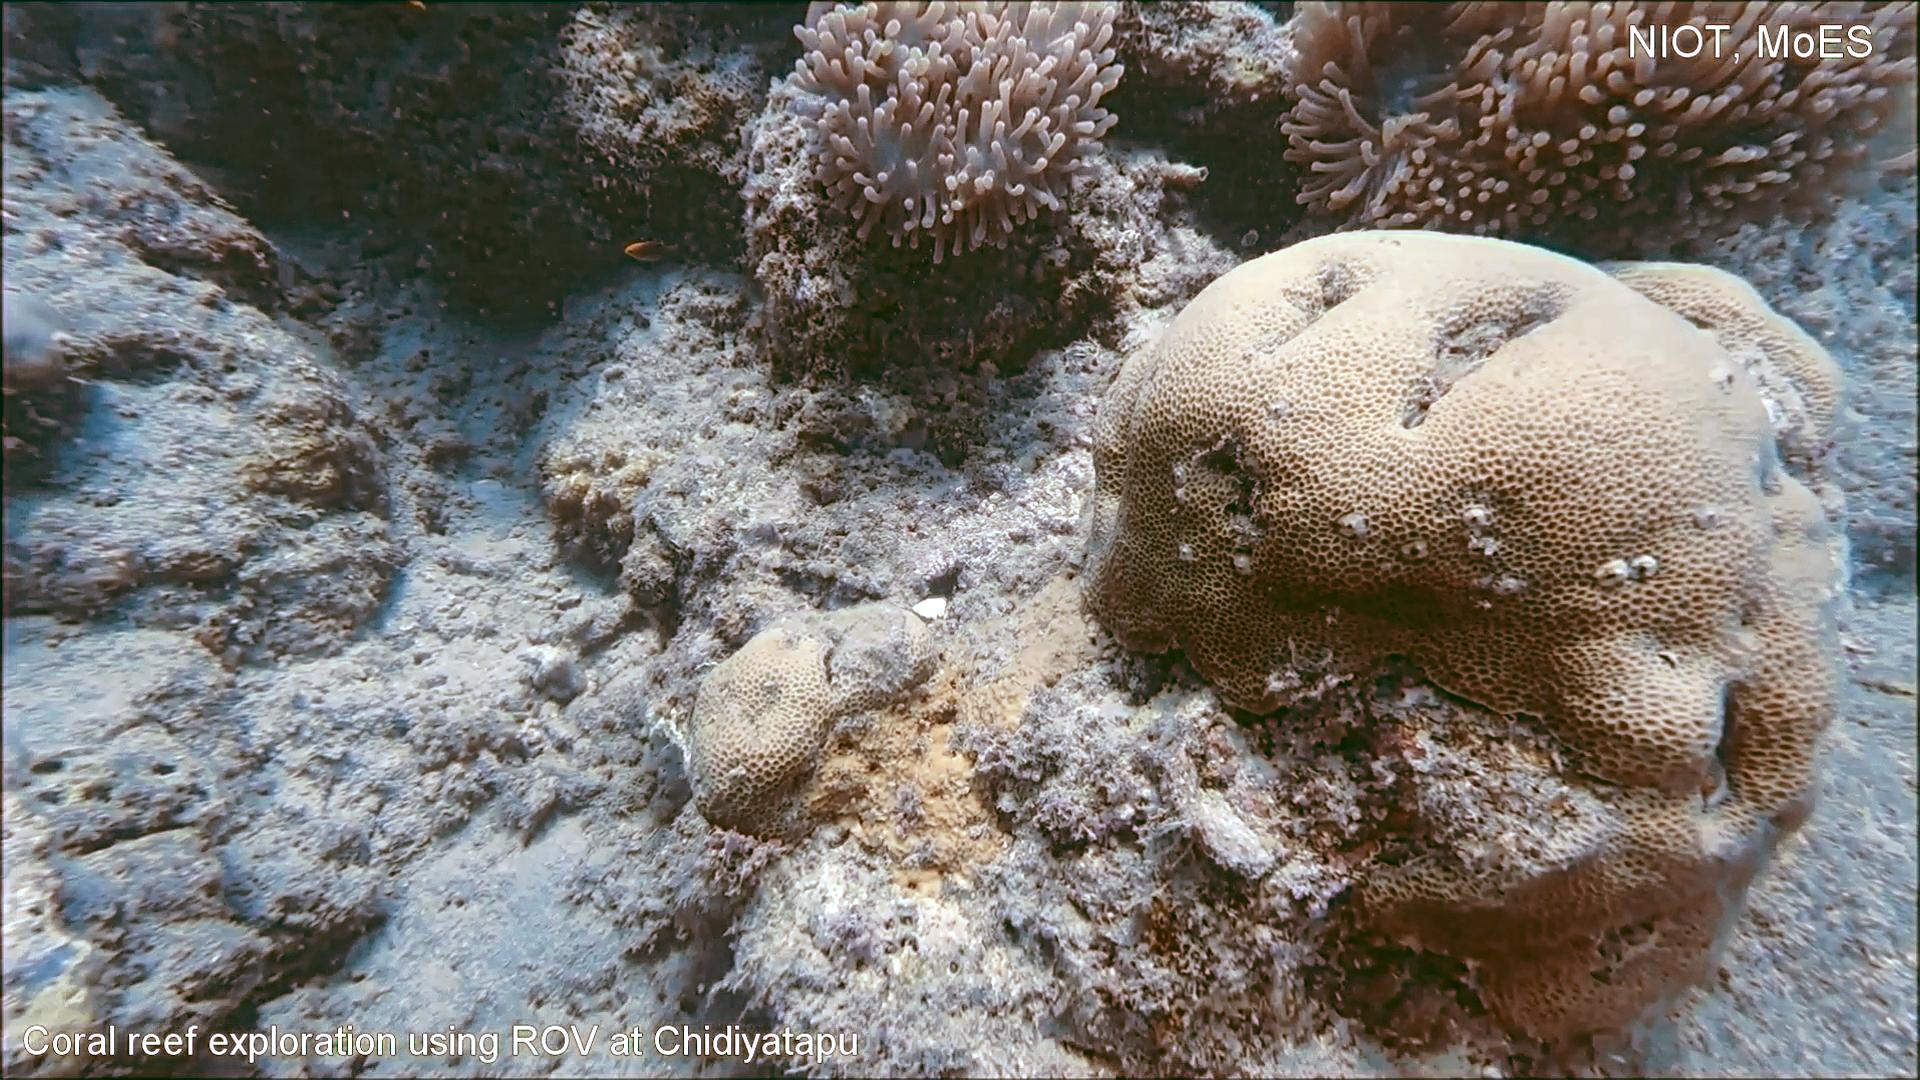Macrodactyla doreensis-Long tentacle Anemone: (1273, 0, 1920, 233), (752, 0, 1133, 270)
